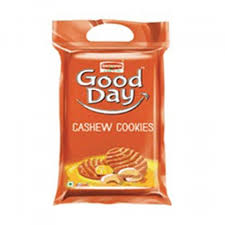gooday-large: (62, 29, 160, 197)
